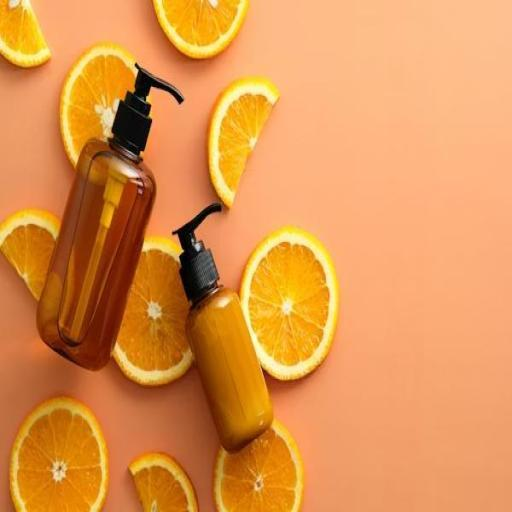bottle: (29, 52, 189, 376)
